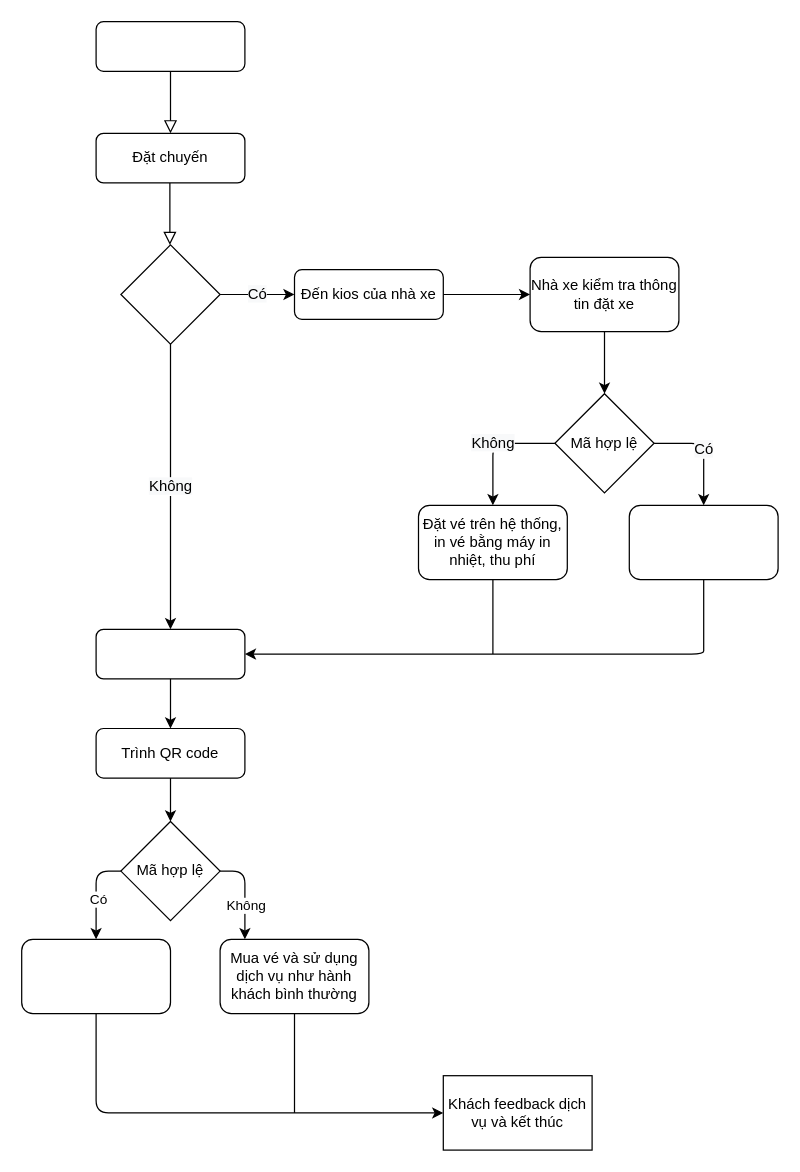
This 800x1172 diagram has some shape labels left out. The centre of each missing label's shape, as x and y in pixels:
"Hành khách đặt xe" belongs at (170,45).
"In vé xe?" belongs at (170,294).
"Nhà xe check-in lên hệ thống bằng cách quét mã QR và xác nhận" belongs at (95,976).
"Thu phí và in vé xe" belongs at (703,542).
"Đến thẳng xe" belongs at (170,653).
